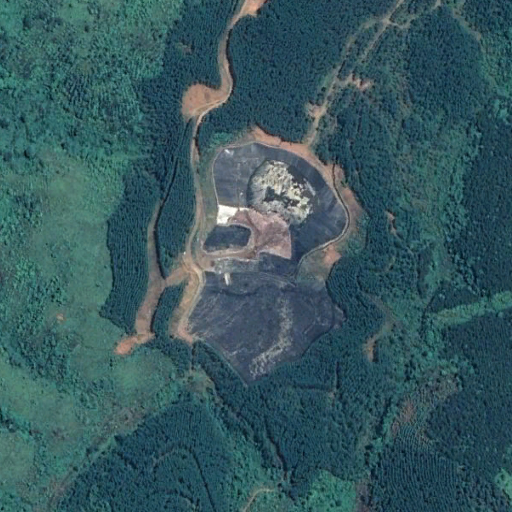lf: (186, 145, 348, 380)
